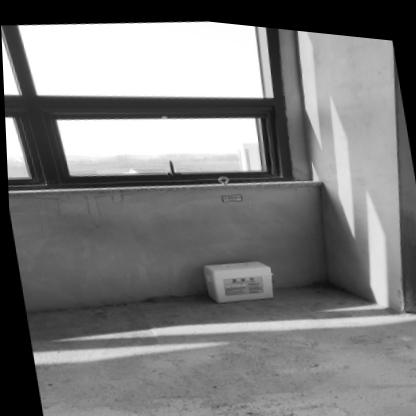DDL: (198, 249, 275, 303)
